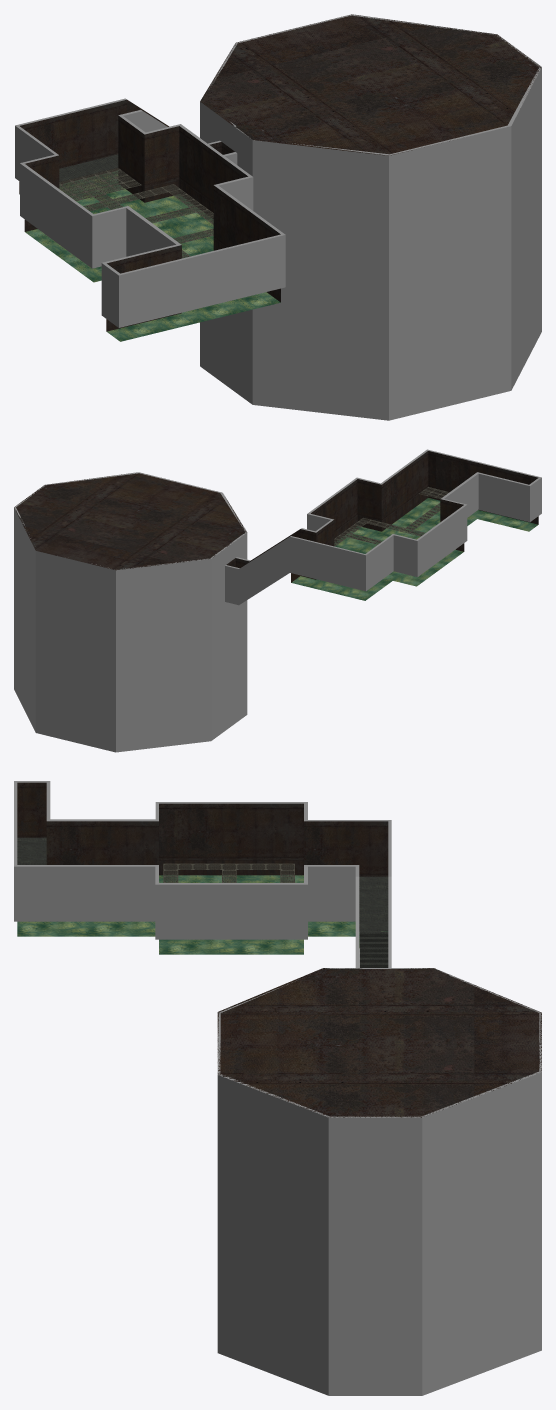
Rendered from lower_sewer.FBX.
The picture shows the model from 3 angles, top to bottom: view 1: azimuth 30°, elevation 25°; view 2: azimuth 150°, elevation 25°; view 3: azimuth 270°, elevation 25°; orthographic projection. The views are drawn at different scales.
Parts seen in each view (by area): view 1: lower_sewer, sewer_water; view 2: lower_sewer, sewer_water; view 3: lower_sewer, sewer_water, sewer_stairs.
Part boxes in pixels (bbox=[...]): lower_sewer: bbox=[15, 14, 541, 420]; sewer_water: bbox=[19, 171, 280, 341]; lower_sewer: bbox=[14, 449, 541, 752]; sewer_water: bbox=[291, 498, 538, 600]; lower_sewer: bbox=[14, 781, 541, 1395]; sewer_water: bbox=[17, 875, 387, 954]; sewer_stairs: bbox=[359, 931, 388, 967].
Size of what is drawn, in the model's own units: 3192 by 1627 by 2425.
